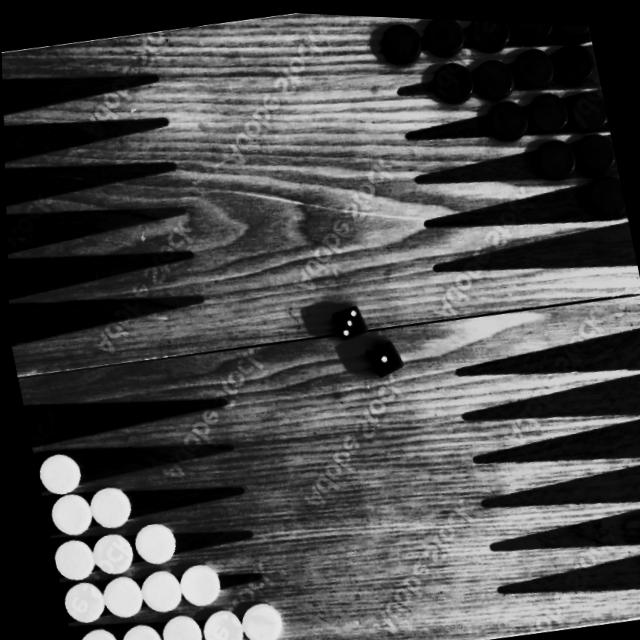board: (0, 0, 640, 640)
dark_p: (504, 35, 559, 91), (424, 50, 479, 105), (465, 48, 518, 103), (374, 13, 426, 67), (528, 127, 580, 181), (480, 88, 531, 142), (547, 30, 598, 83), (522, 81, 572, 134), (559, 79, 609, 132), (579, 167, 627, 219), (569, 123, 618, 173), (418, 15, 470, 58), (462, 16, 515, 55), (505, 18, 558, 42), (547, 19, 589, 37)
dice: (354, 328, 407, 381), (321, 293, 368, 345)
light_p: (123, 514, 179, 570), (29, 445, 82, 500), (39, 486, 92, 540), (80, 477, 132, 532), (130, 563, 182, 617), (92, 570, 144, 624), (170, 556, 221, 610), (84, 527, 135, 579), (54, 576, 104, 629), (46, 532, 96, 585), (231, 593, 284, 640), (192, 600, 242, 640), (152, 607, 202, 640), (110, 616, 162, 640), (65, 619, 119, 640)
